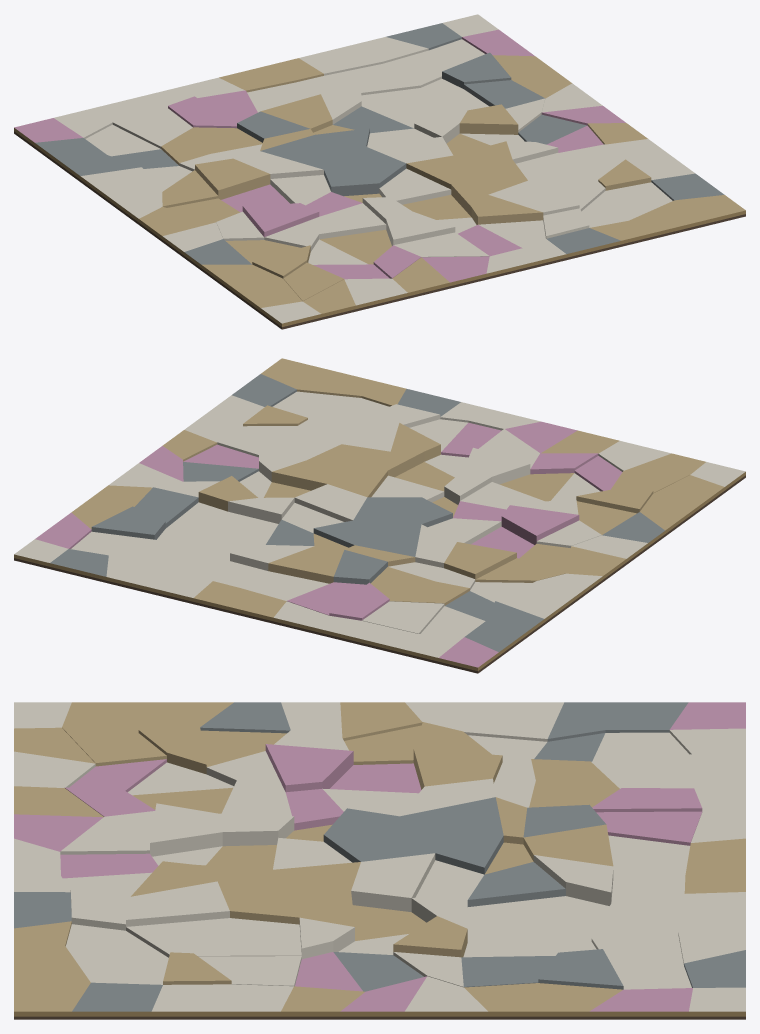
File: coral-rubble-seabed-tile-772a1f.glb
3 views of the same model, one above another, from view 1: azimuth 30°, elevation 25°; view 2: azimuth 150°, elevation 25°; view 3: azimuth 270°, elevation 25° (orthographic). The views are drawn at different scales.
Visible parts, largest first — view 1: coral-rubble-seabed-tile-mesh; view 2: coral-rubble-seabed-tile-mesh; view 3: coral-rubble-seabed-tile-mesh.
Boxes of the visible parts, bbox=[...] form: coral-rubble-seabed-tile-mesh: bbox=[14, 14, 745, 329]; coral-rubble-seabed-tile-mesh: bbox=[14, 358, 745, 673]; coral-rubble-seabed-tile-mesh: bbox=[14, 702, 745, 1019].
Size of the model in its own units: 4 by 0.098 by 4.
